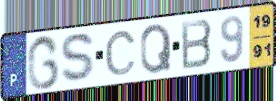9: (218, 14, 246, 65)
B: (180, 17, 215, 72)
C: (103, 29, 138, 77)
G: (25, 33, 61, 92)
Q: (139, 22, 174, 76)
S: (59, 32, 98, 86)
